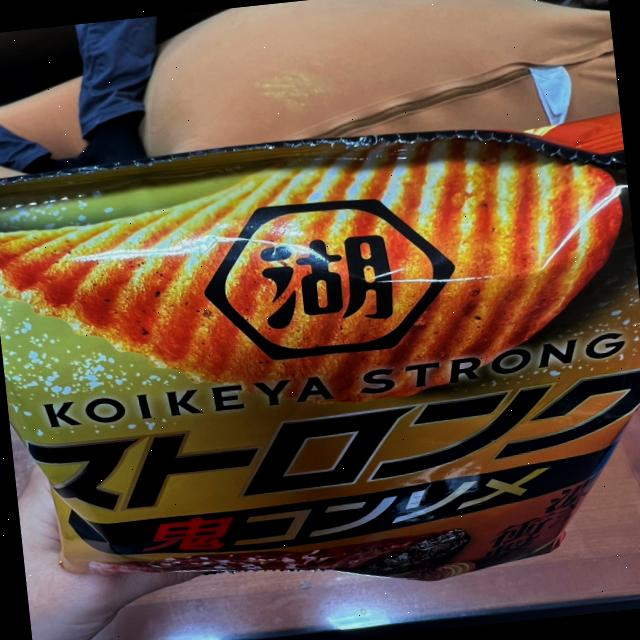chips-consome: (0, 114, 640, 590)
